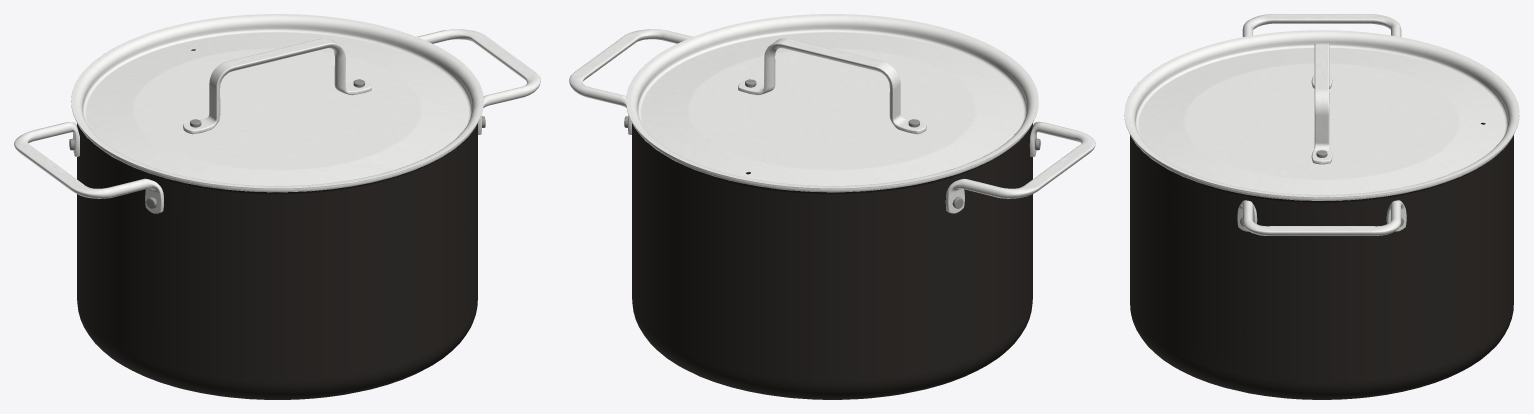
File: guldoring_garnek_z_pokrywka_50609458.glb
3 renders of one model, left to right at view 1: azimuth 30°, elevation 25°; view 2: azimuth 150°, elevation 25°; view 3: azimuth 270°, elevation 25°, orthographic. The views are drawn at different scales.
Parts seen in each view (by area): view 1: guldoring_garnek_z_pokrywka_50609458; view 2: guldoring_garnek_z_pokrywka_50609458; view 3: guldoring_garnek_z_pokrywka_50609458.
Boxes of the visible parts, <box> form: guldoring_garnek_z_pokrywka_50609458: <box>14,14,540,399</box>; guldoring_garnek_z_pokrywka_50609458: <box>569,14,1095,399</box>; guldoring_garnek_z_pokrywka_50609458: <box>1124,14,1519,399</box>.
Size of the model in its own units: 0.3011 by 0.1684 by 0.2305.
1 material, 1 textured.
